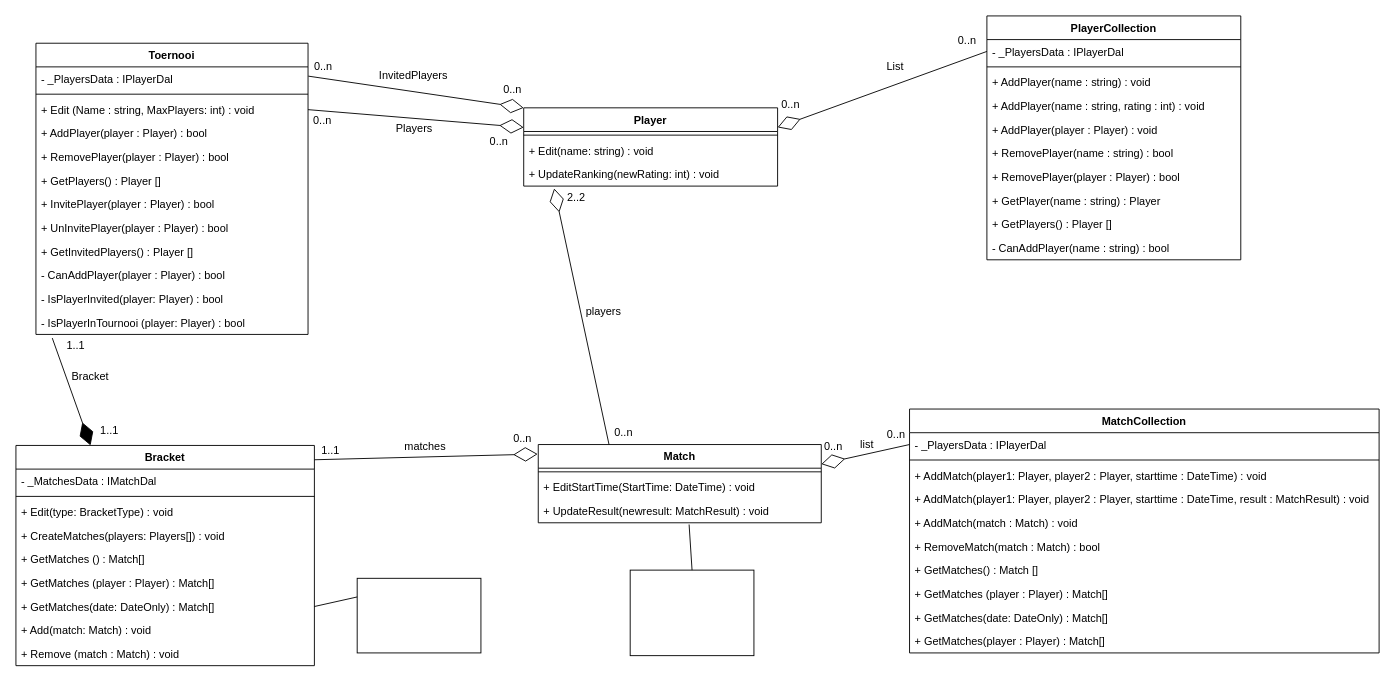
This 1395x684 diagram has some shape labels left out. The shapes that lost their labels are listed below. From the top down, each one's centre as x and y in pixels, then its label:
At [418,615]: "<<enumeration>> BracketType round robin elemination".
At [691,612]: "<<enumeration>> MatchResult WinP1 WinP2 Draw".
